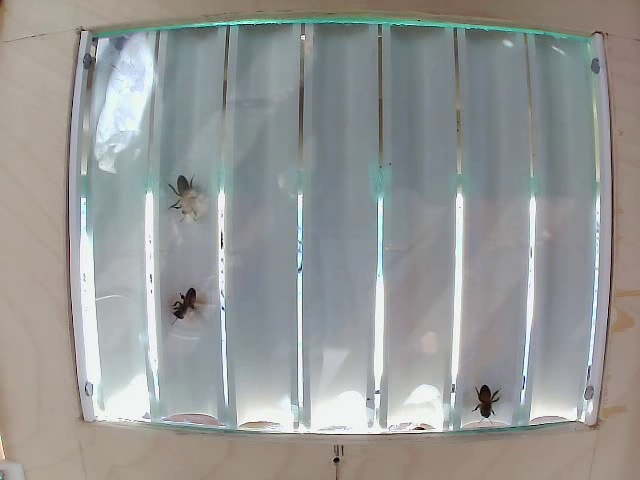bee: (156, 283, 193, 323), (465, 385, 496, 416), (172, 173, 195, 214)
